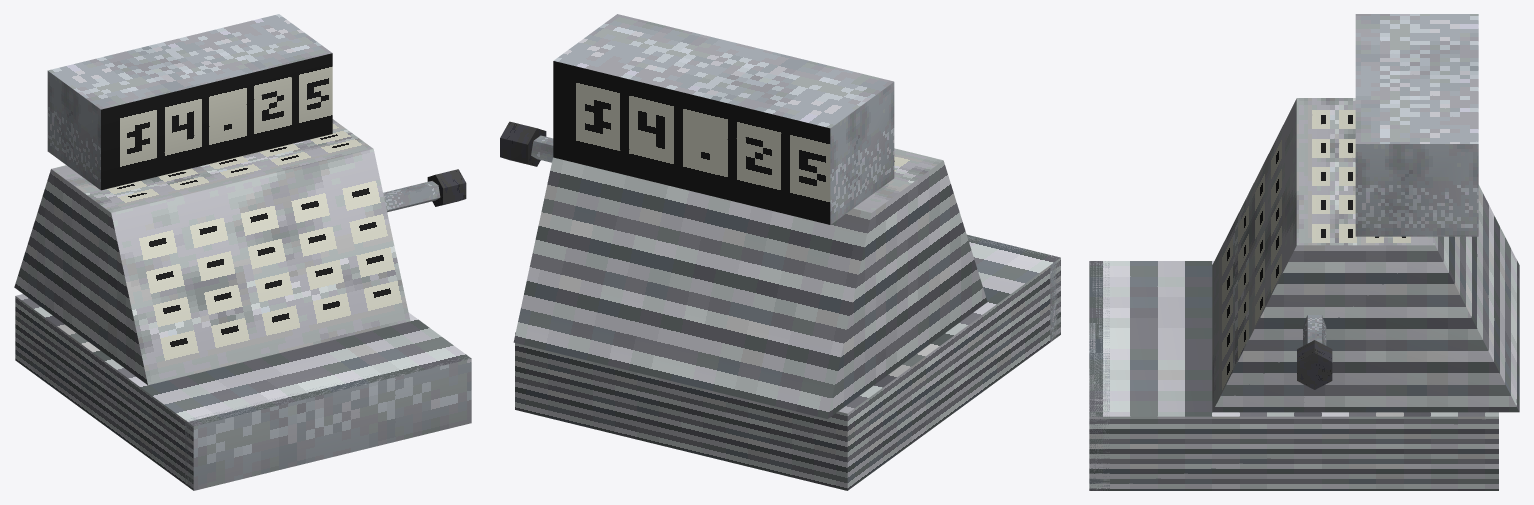
The model's file is CashRegister.glb.
3 renders of one model, left to right at view 1: azimuth 30°, elevation 25°; view 2: azimuth 150°, elevation 25°; view 3: azimuth 270°, elevation 25°, orthographic. The views are drawn at different scales.
Parts seen in each view (by area): view 1: cash_register; view 2: cash_register; view 3: cash_register.
Part boxes in pixels (x1,y1,x2,y2): cash_register: [14, 14, 471, 490]; cash_register: [500, 14, 1060, 490]; cash_register: [1089, 14, 1519, 490].
Bounding box in the file's own units: 0.47 × 0.36 × 0.42.
1 material, 1 textured.
